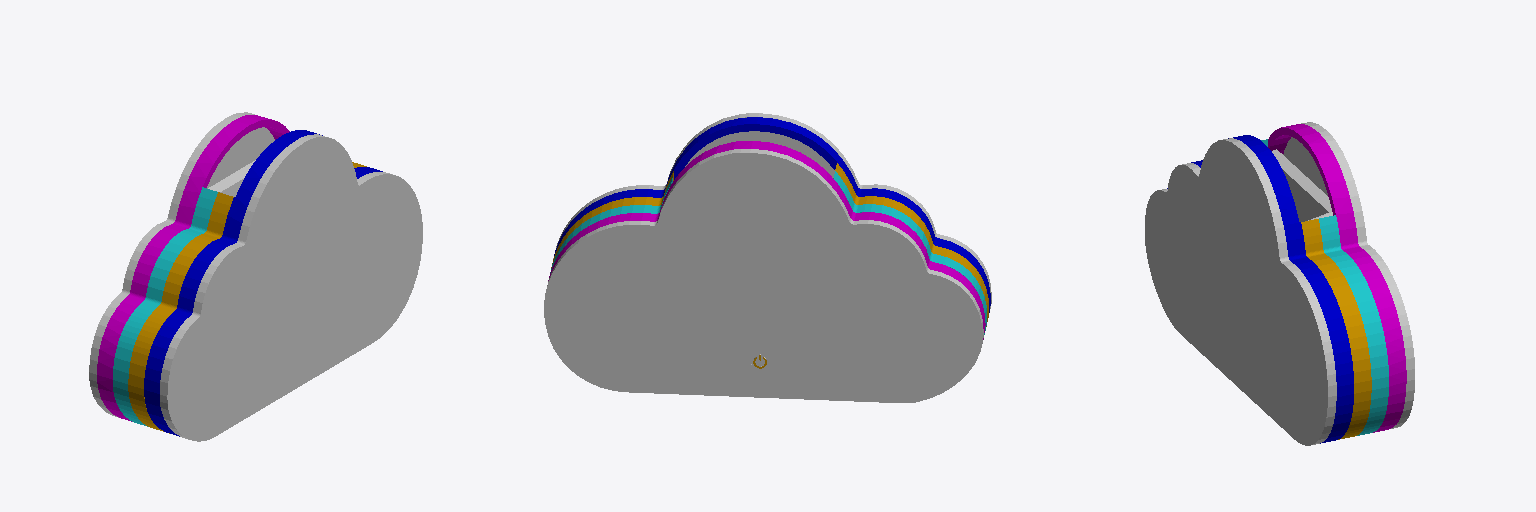
The model's file is cloud3.obj.
The picture shows the model from 3 angles: view 1: azimuth 30°, elevation 25°; view 2: azimuth 150°, elevation 25°; view 3: azimuth 270°, elevation 25°; orthographic projection.
Visible parts, largest first — view 1: cloud2_v21; view 2: cloud2_v21; view 3: cloud2_v21.
Boxes of the visible parts, x1,y1,x2,y2 form: cloud2_v21: [89, 112, 422, 441]; cloud2_v21: [544, 113, 991, 402]; cloud2_v21: [1145, 122, 1414, 445].
Bounding box in the file's own units: 102 × 62.6 × 62.83.